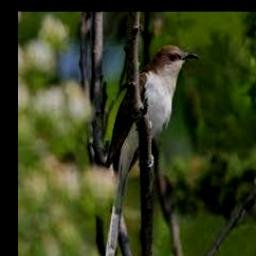Cuckoo: (104, 45, 199, 256)
